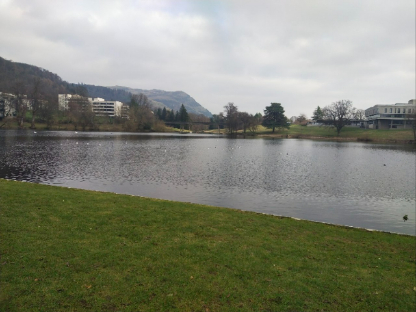tree: (122, 93, 160, 130), (264, 99, 295, 134), (329, 100, 360, 135), (70, 93, 100, 129), (26, 89, 46, 128), (219, 104, 248, 128), (10, 92, 27, 126), (172, 99, 192, 125), (312, 106, 324, 122)
